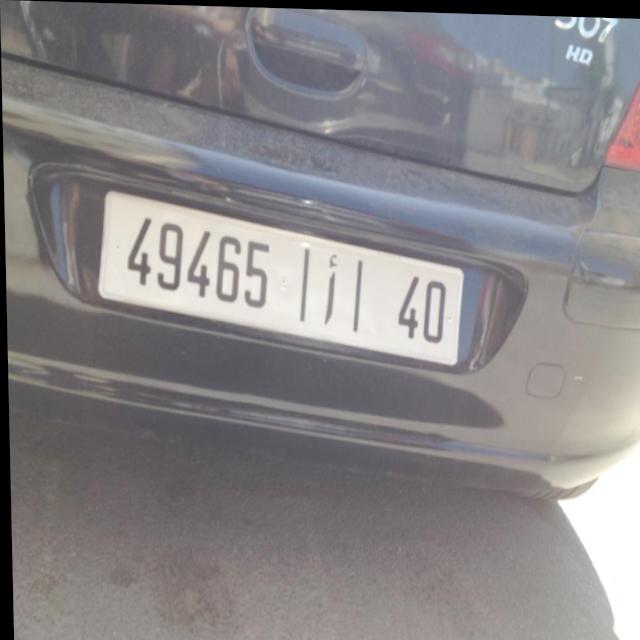License-Plate: (97, 191, 462, 363)
